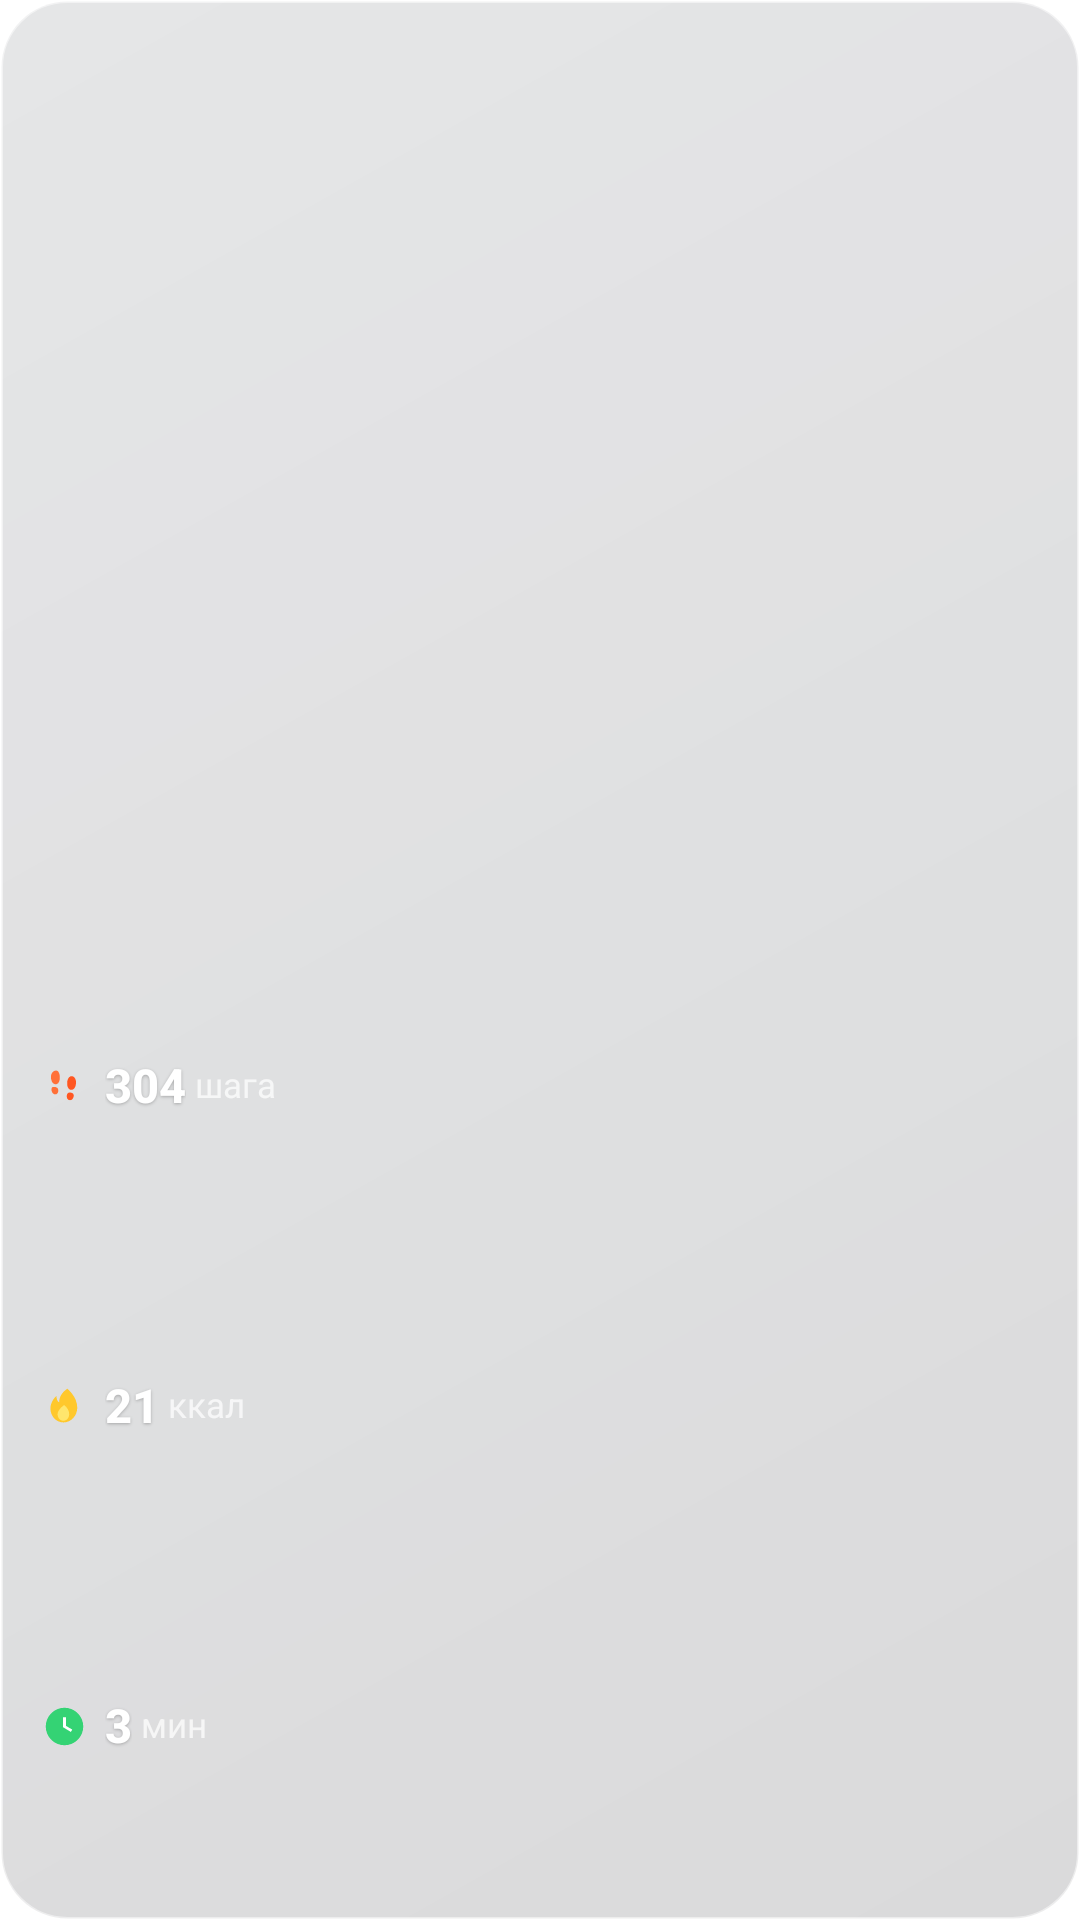

Named icons in this screenshot (1080 x 1920) and their centers, point (x, y):
clock: point (64, 1726)
fire: point (64, 1406)
steps: point (63, 1085)
